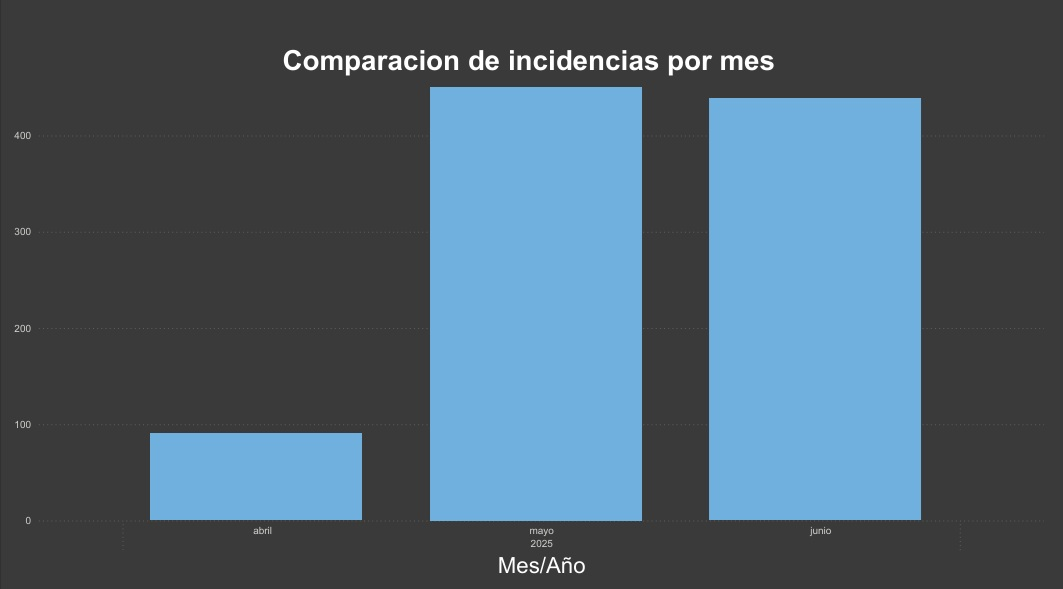

The dashboard page shown, as its layout file describes it:
{"tool":"powerbi","page":{"name":"Página 2","canvas":[1280,720],"ordinal":1},"visuals":[{"type":"columnChart","title":"Comparacion de incidencias por mes","fields":{"Category":["tabla del mes.FECHA.Variación.Jerarquía de fechas.Año","tabla del mes.FECHA.Variación.Jerarquía de fechas.Mes"],"Y":["tabla del mes.Total de Incidencias"]},"box":[10,56.2,1246.2,643.8],"z":0}]}

Visuals, with their boxes in screenshot pixels (x1, y1, x2, y2), scaled from the page's 1280x720 canvas onto the 1063x589 screenshot:
"Comparacion de incidencias por mes" columnChart: (x1=8, y1=46, x2=1043, y2=573)
